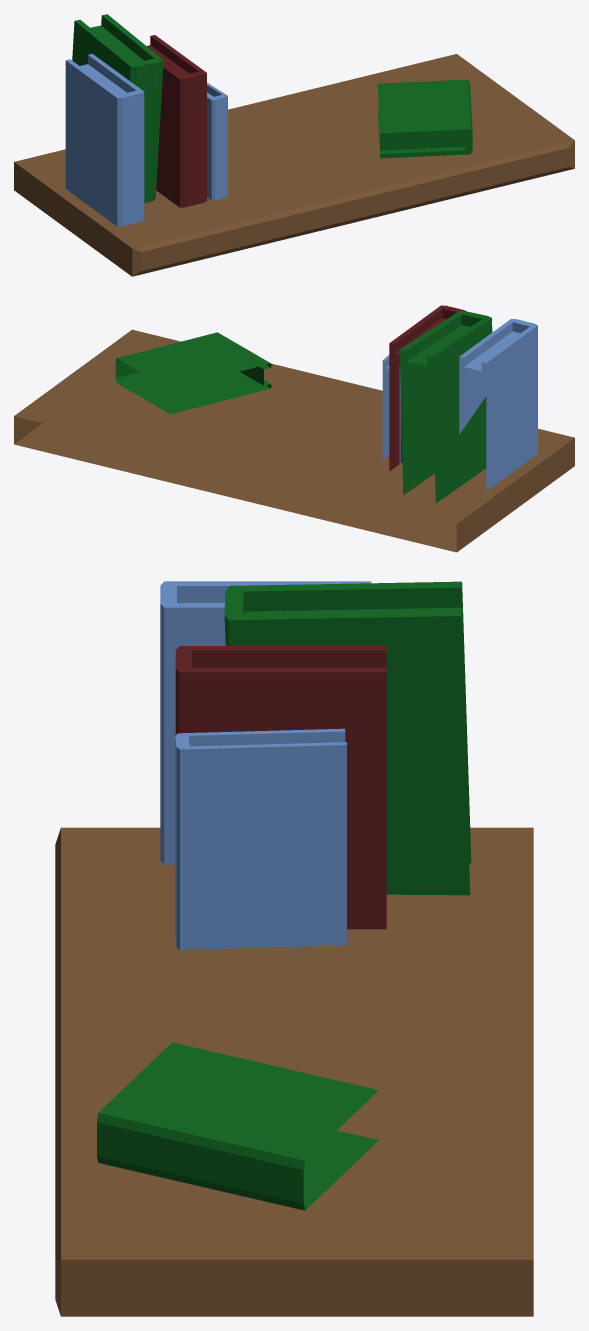
File: BookShelf.fbx
3 views of the same model, one above another, from view 1: azimuth 30°, elevation 25°; view 2: azimuth 150°, elevation 25°; view 3: azimuth 270°, elevation 25° (orthographic). The views are drawn at different scales.
Visible parts, largest first — view 1: BookShelf; view 2: BookShelf; view 3: BookShelf.
Boxes of the visible parts, x1,y1,x2,y2 form: BookShelf: [14, 14, 574, 276]; BookShelf: [14, 305, 574, 552]; BookShelf: [55, 581, 533, 1316].
Bounding box in the file's own units: 154 × 57.24 × 72.04.
